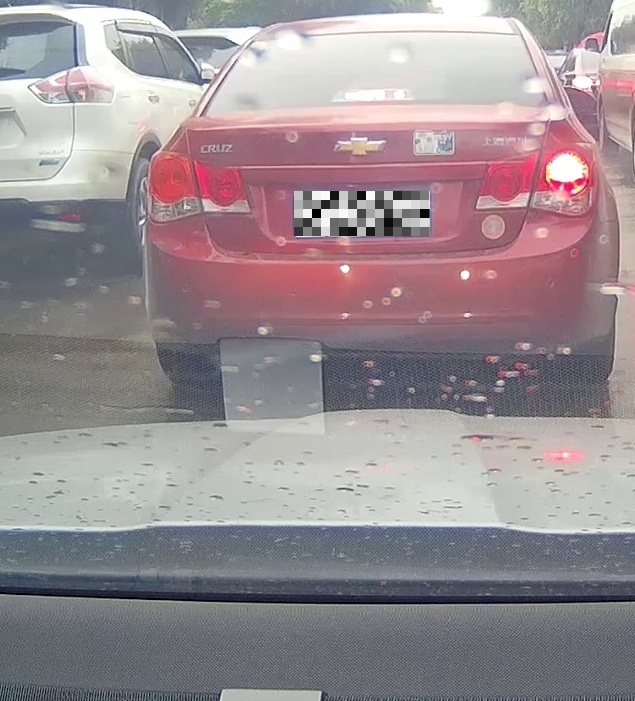L_light: (147, 151, 250, 222)
R_light: (476, 142, 595, 216)
T_light: (340, 87, 411, 101)
day-right: (145, 14, 621, 382)
plate_1: (294, 191, 430, 236)
